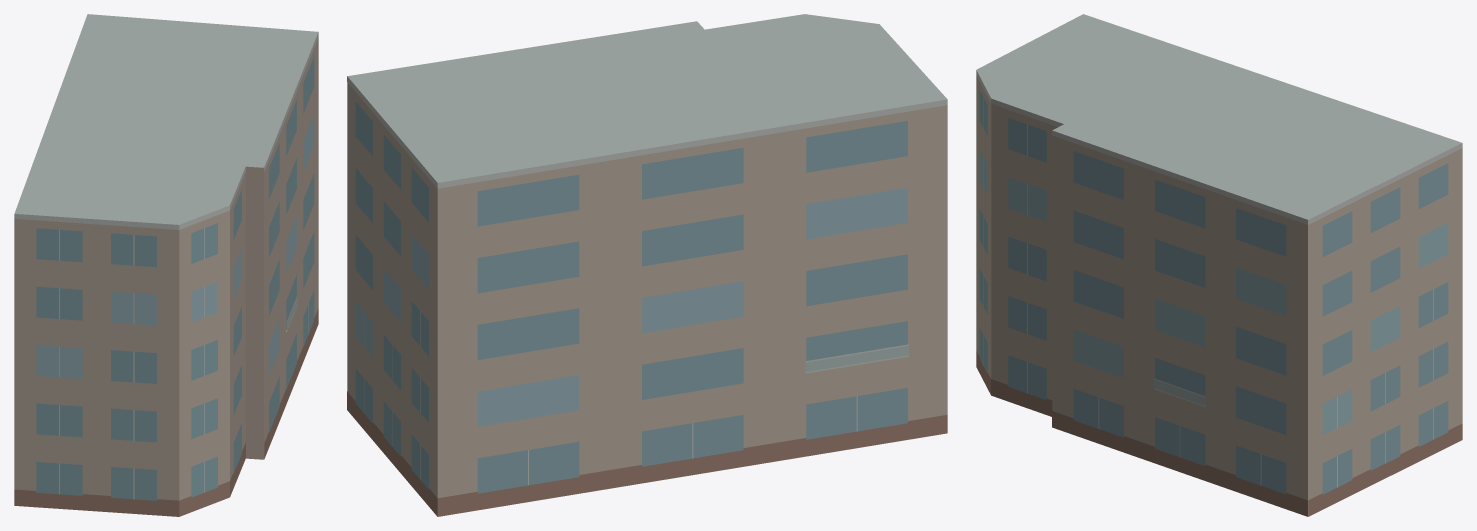
File: survey-upis-32778371.glb
The picture shows the model from 3 angles, left to right: view 1: azimuth 30°, elevation 25°; view 2: azimuth 150°, elevation 25°; view 3: azimuth 270°, elevation 25°; orthographic projection. The views are drawn at different scales.
Visible parts, largest first — view 1: survey-upis-32778371.tmp; view 2: survey-upis-32778371.tmp; view 3: survey-upis-32778371.tmp.
Part boxes in pixels (bbox=[...]): survey-upis-32778371.tmp: bbox=[14, 14, 318, 516]; survey-upis-32778371.tmp: bbox=[347, 14, 947, 516]; survey-upis-32778371.tmp: bbox=[976, 14, 1462, 516].
Size of the model in its own units: 20.97 by 14.1 by 20.93.
